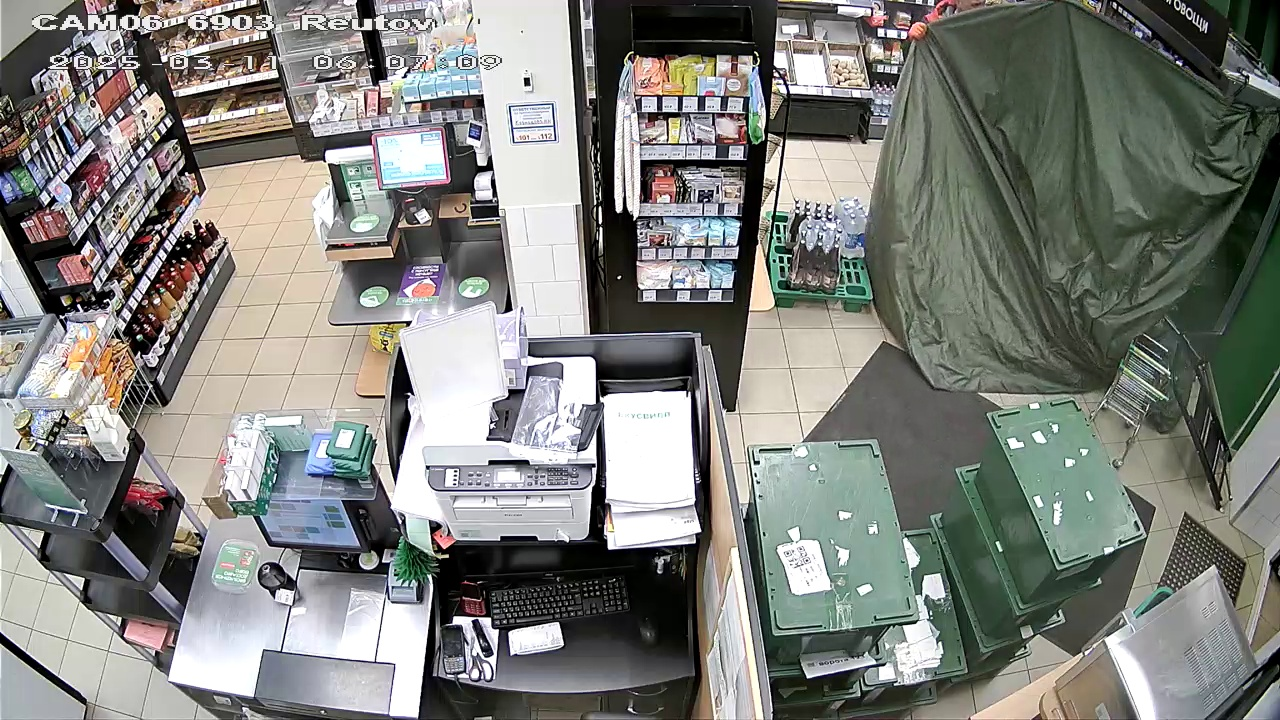dome: (872, 9, 1273, 385)
